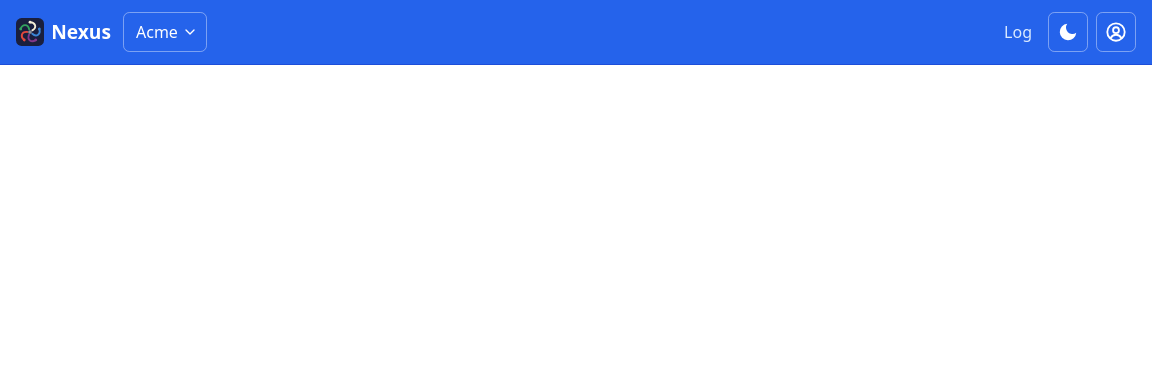
Test: names the user and their role on the account button, and opens a menu with the account page
This screenshot has width=1152, height=366.
Click the button named "Account menu for member@acme.test, Admin" at (1116, 32), box [1096, 12, 1136, 52]
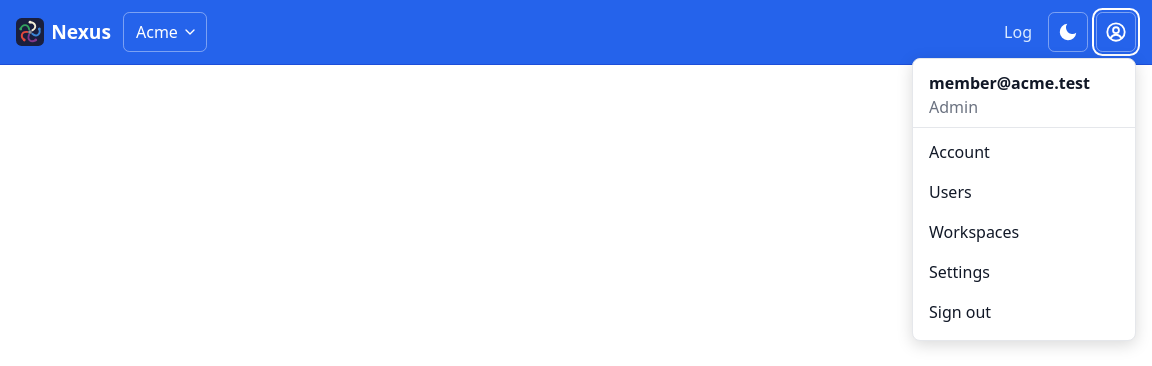
Expected: the text "member@acme.test" is shown, [929, 72, 1090, 94]
Expected: the text "Admin" is shown, [929, 96, 978, 118]
Press Escape
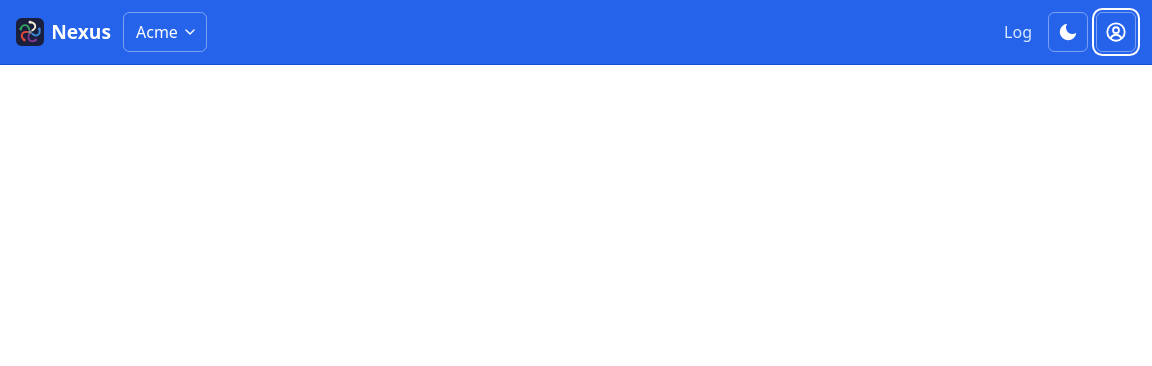
Expected: the menu is gone
